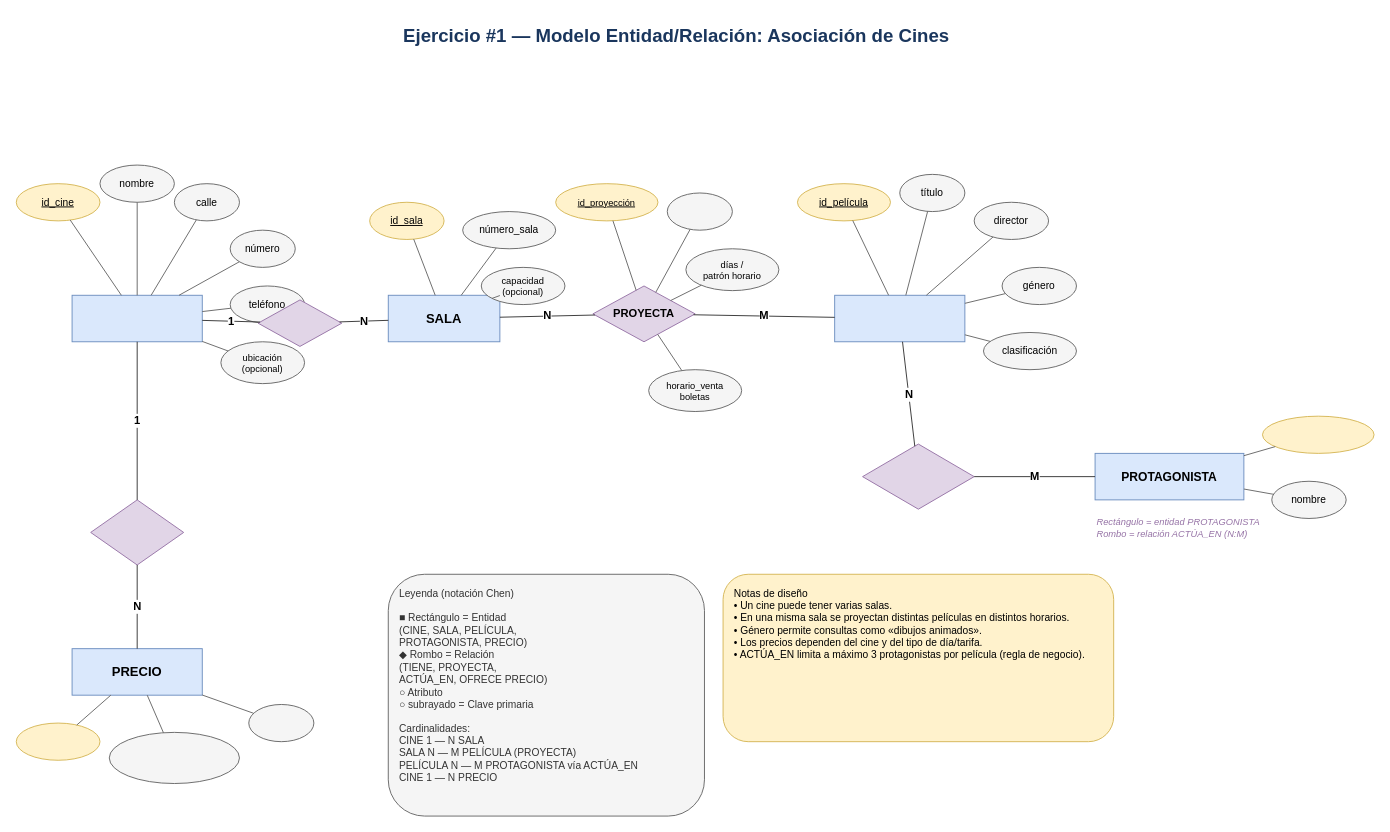
This 1390x832 diagram has some shape labels left out. Here are the shapes that lost their labels. From the top down, the centre of each, then its label:
point (699, 211): hora
point (136, 318): CINE
point (299, 322): TIENE
point (899, 318): PELÍCULA
point (1318, 434): id_protagonista
point (918, 476): ACTÚA_EN (máx. 3)
point (137, 532): OFRECE PRECIO
point (57, 741): id_precio
point (281, 723): valor
point (173, 757): tipo_día (espectador, jubilado, festivo, estudiante…)
